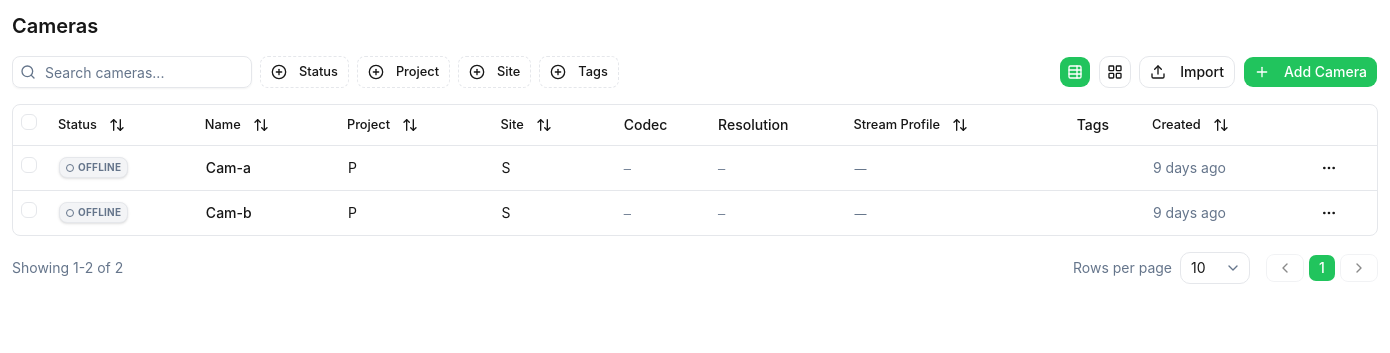
Scenario: TenantCamerasPage — selection (D-05) › rowSelection is keyed by camera.id (getRowId) — clearing one row keeps the other selected
Check: the text "Cam-a" is shown, box 206,158 -> 251,176
Check: the text "Cam-b" is shown, box 206,204 -> 252,220
Click the checkbox named "Select camera Cam-a" at (29, 165), box 21,157 -> 37,173
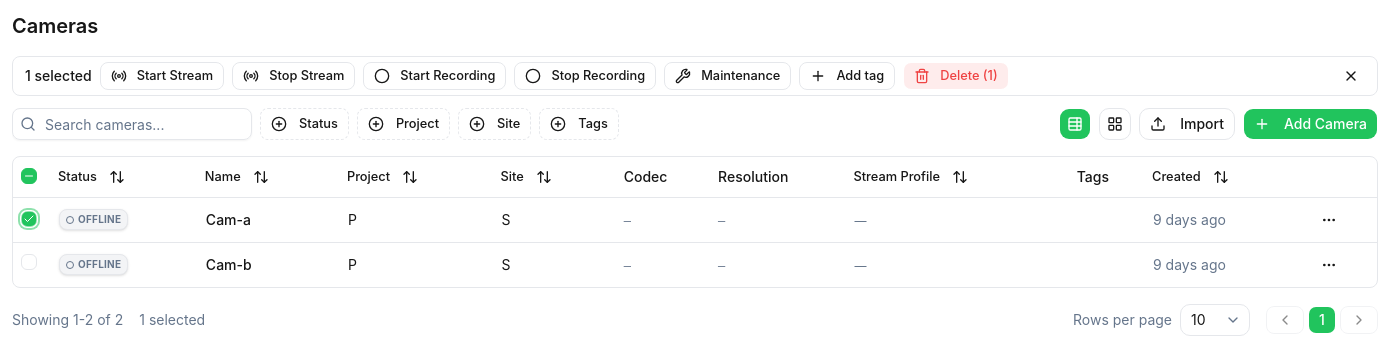
Click the checkbox named "Select camera Cam-b" at (29, 262), box 21,254 -> 37,270
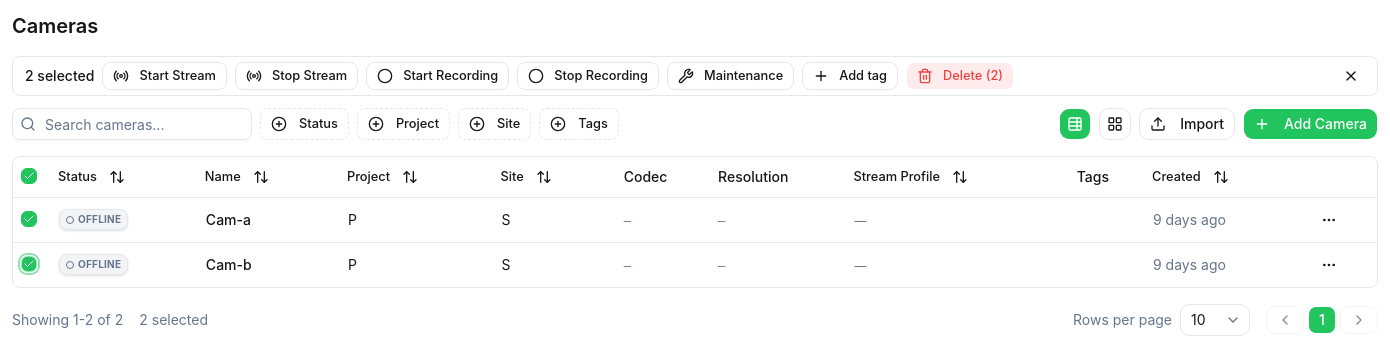
Check: the 1st text "2 selected" is shown, box 25,66 -> 94,86
# Uncheck one.
Click the checkbox named "Select camera Cam-a" at (29, 218), box 21,210 -> 37,226
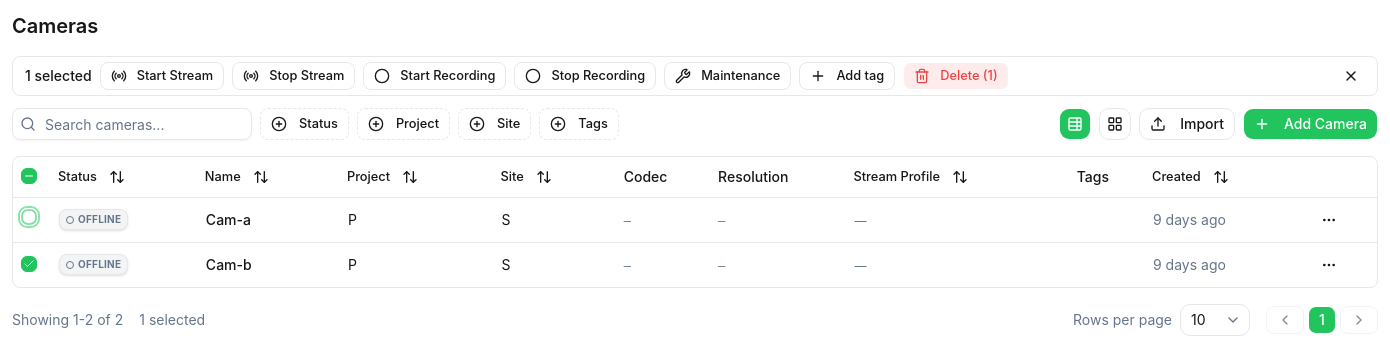
Check: the 1st text "1 selected" is shown, box 25,66 -> 92,86
